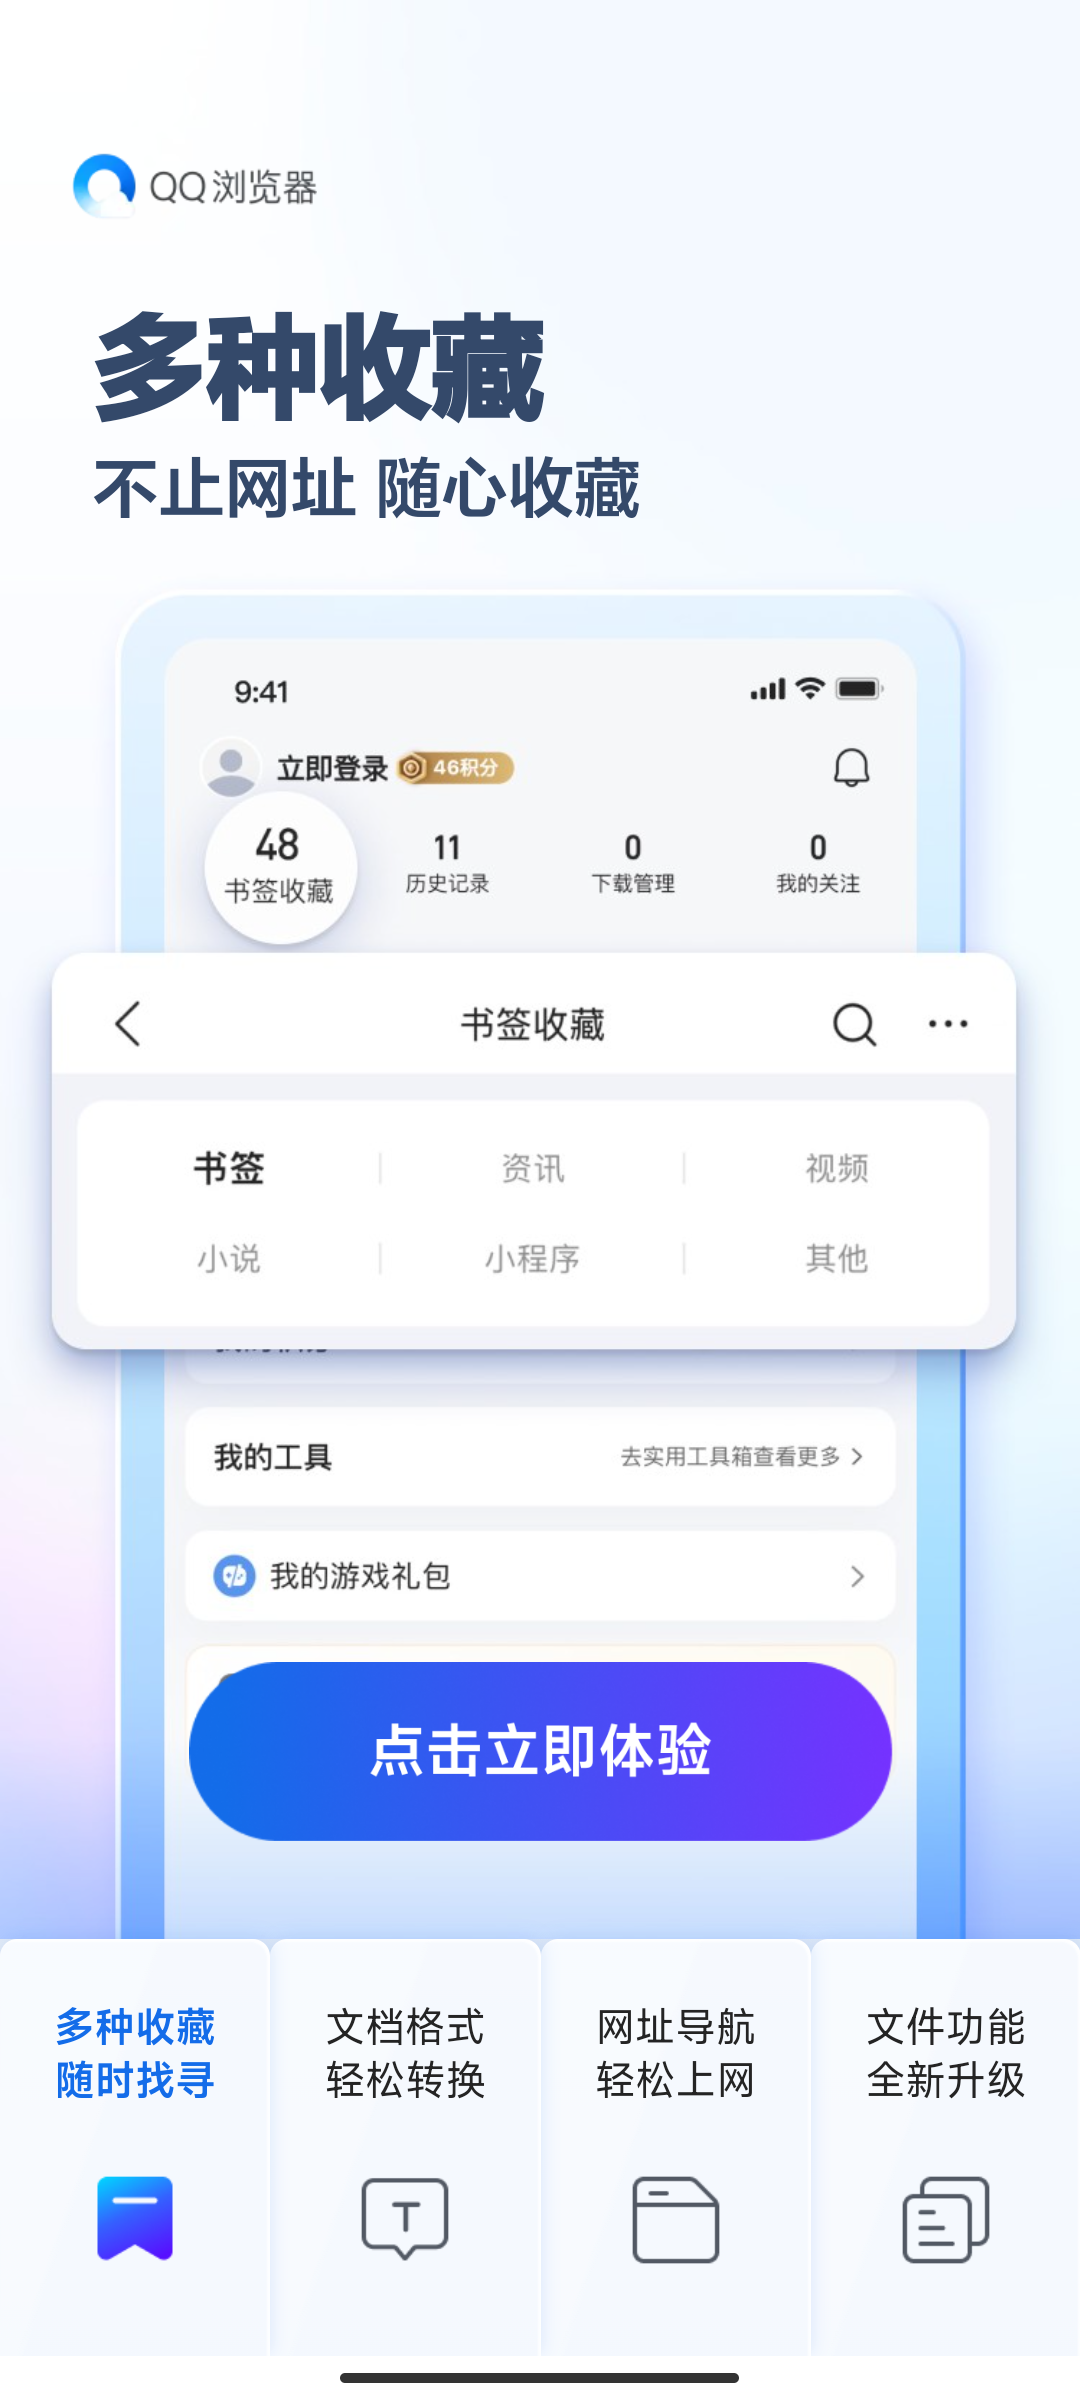ui_group: (188, 1659, 896, 1843), (272, 1942, 552, 2327), (557, 1948, 815, 2340), (825, 1953, 1075, 2333), (5, 1942, 257, 2319)
